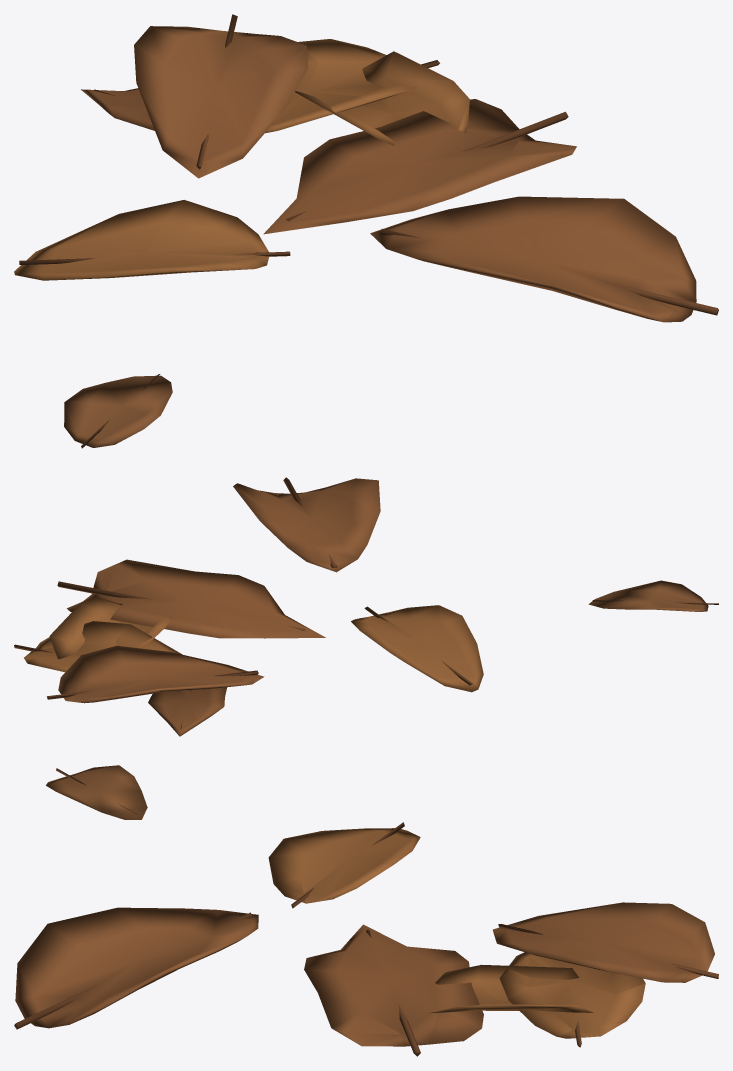
The model's file is glade_gc_leaf_litter_c_lod1.glb.
3 views of the same model, one above another, from view 1: azimuth 30°, elevation 25°; view 2: azimuth 150°, elevation 25°; view 3: azimuth 270°, elevation 25° (orthographic). The views are drawn at different scales.
Visible parts, largest first — view 1: glade_gc_leaf_litter_c.001; view 2: glade_gc_leaf_litter_c.001; view 3: glade_gc_leaf_litter_c.001.
Part boxes in pixels (x1,y1,x2,y2): glade_gc_leaf_litter_c.001: (14, 14, 718, 448); glade_gc_leaf_litter_c.001: (14, 477, 718, 736); glade_gc_leaf_litter_c.001: (14, 765, 718, 1056).
Bounding box in the file's own units: 4.37 × 0.3771 × 4.43.
